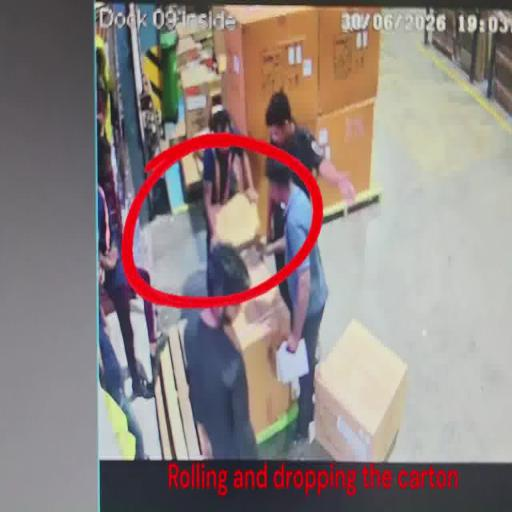carton: (222, 5, 321, 189), (259, 104, 372, 248), (312, 318, 410, 464), (230, 296, 292, 432), (316, 5, 384, 114), (212, 188, 270, 300)
pallet: (153, 321, 201, 461), (305, 186, 384, 229), (250, 407, 300, 446)
person: (264, 163, 328, 445), (182, 244, 260, 460), (263, 92, 357, 250), (98, 184, 157, 400), (200, 111, 256, 293), (98, 303, 146, 460)
